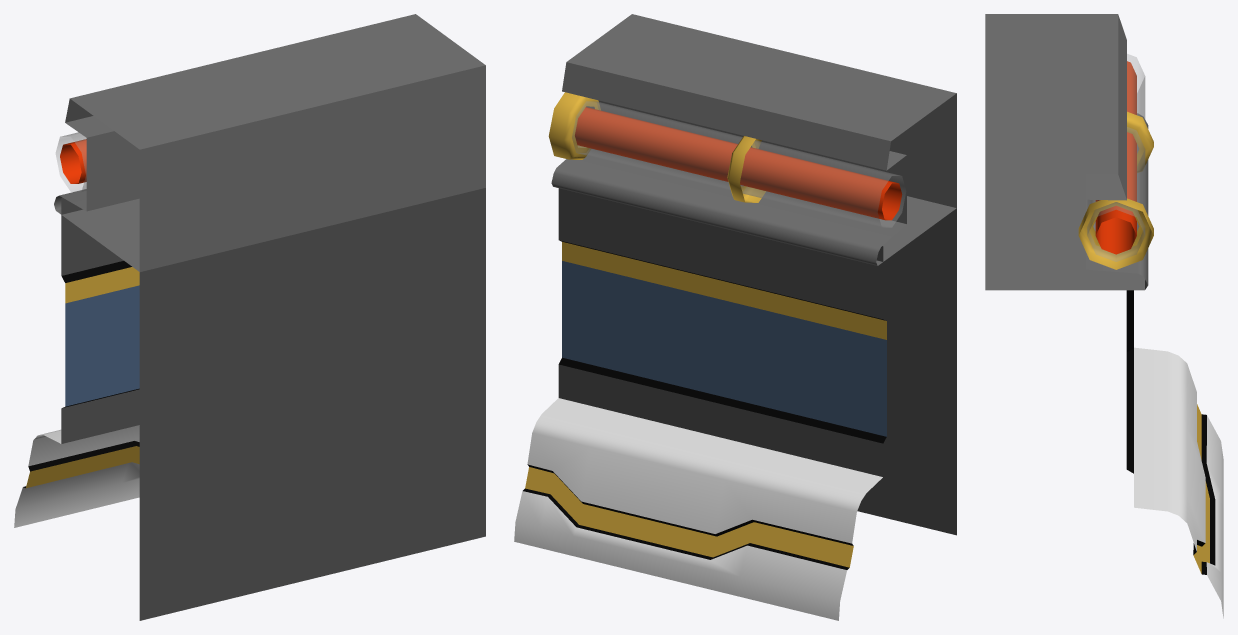
File: Half_Wall_withoutdetails3.fbx
3 renders of one model, left to right at view 1: azimuth 30°, elevation 25°; view 2: azimuth 150°, elevation 25°; view 3: azimuth 270°, elevation 25°, orthographic. The views are drawn at different scales.
Parts seen in each view (by area): view 1: Half_Wall_withoutdetails3; view 2: Half_Wall_withoutdetails3; view 3: Half_Wall_withoutdetails3.
Part boxes in pixels (box(x1,y1,x2,y2)): Half_Wall_withoutdetails3: box(14, 14, 485, 620); Half_Wall_withoutdetails3: box(514, 14, 956, 620); Half_Wall_withoutdetails3: box(985, 14, 1223, 618).
Bounding box in the file's own units: 524 × 682 × 330.
